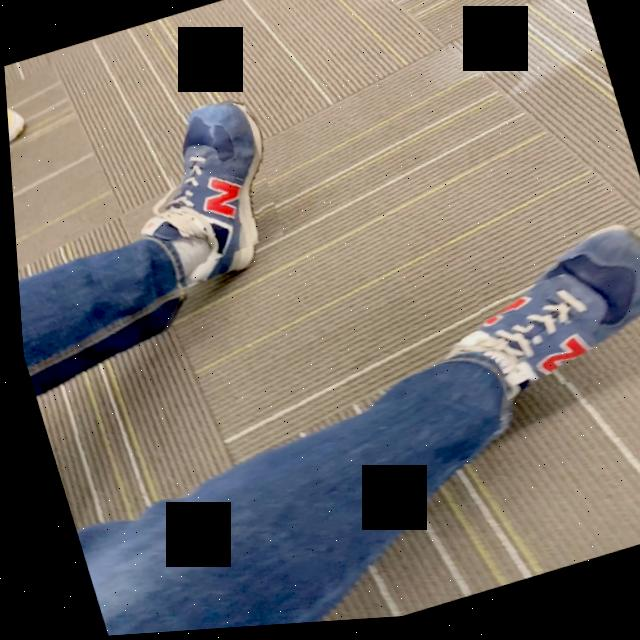shoe: (487, 236, 640, 407), (173, 107, 255, 260)
